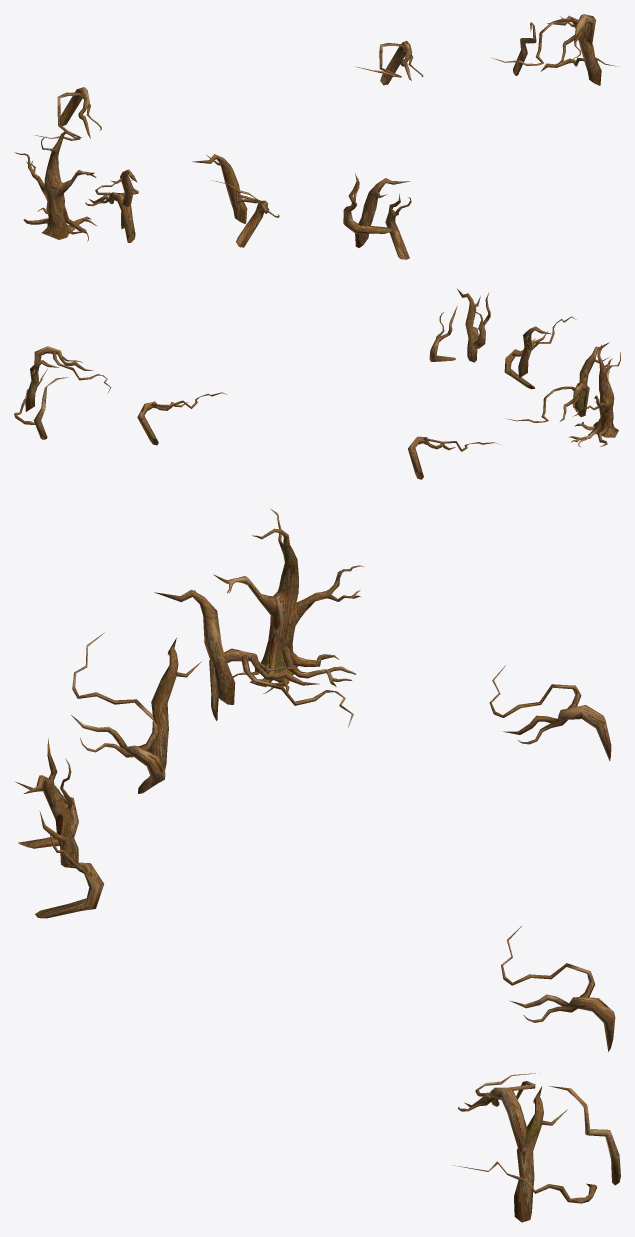
Rendered from zhsly_shugan.FBX.
The picture shows the model from 3 angles, top to bottom: view 1: azimuth 30°, elevation 25°; view 2: azimuth 150°, elevation 25°; view 3: azimuth 270°, elevation 25°; orthographic projection. The views are drawn at different scales.
Parts seen in each view (by area): view 1: zhsly_shugan; view 2: zhsly_shugan; view 3: zhsly_shugan.
Part boxes in pixels (x1=…): zhsly_shugan: x1=14, y1=14, x2=619, y2=259; zhsly_shugan: x1=14, y1=289, x2=620, y2=479; zhsly_shugan: x1=15, y1=508, x2=620, y2=1222.
Bounding box in the file's own units: 4545 × 1133 × 2494.
